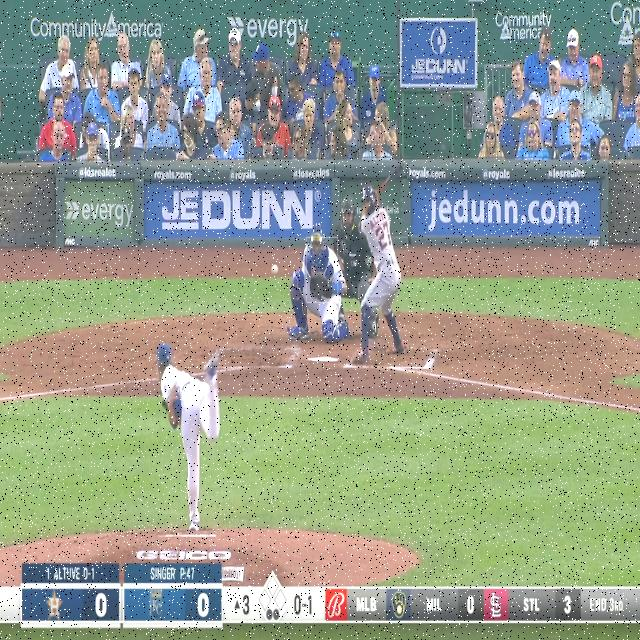baseball: (271, 264, 279, 276)
